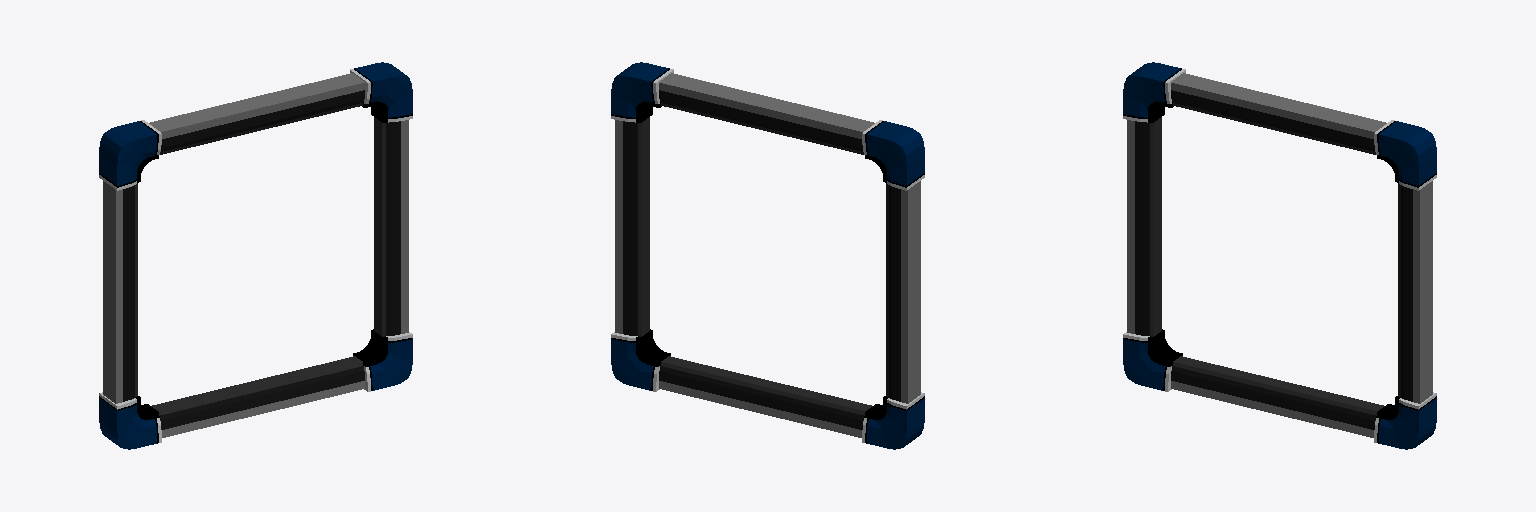
3 renders of one model, left to right at view 1: azimuth 30°, elevation 25°; view 2: azimuth 150°, elevation 25°; view 3: azimuth 330°, elevation 25°, orthographic.
Visible parts, largest first — view 1: frame0.obj; view 2: frame0.obj; view 3: frame0.obj.
Part boxes in pixels (x1,y1,x2,y2): frame0.obj: (99,62,412,449); frame0.obj: (611,62,924,449); frame0.obj: (1123,62,1436,449).
Size of the model in its own units: 1.21 by 1.21 by 0.1295.
1 materials, 1 textured.